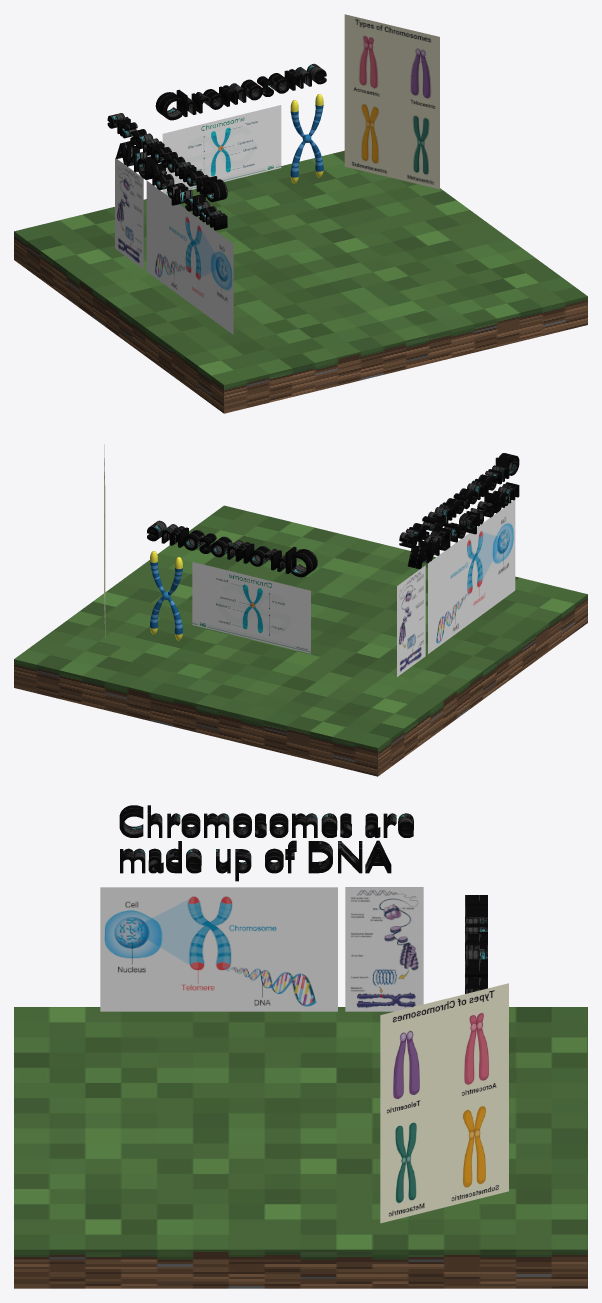
Rendered from chromosome.glb.
The picture shows the model from 3 angles, top to bottom: view 1: azimuth 30°, elevation 25°; view 2: azimuth 150°, elevation 25°; view 3: azimuth 270°, elevation 25°; orthographic projection. The views are drawn at different scales.
Visible parts, largest first — view 1: Object_2, types_of_chromosomes, chromosome_are_made_up_of_dna, chromosome_inner_info_1, Text.001, Text, chromosome_are_made_up_of_dna_2, CromossomaX; view 2: Object_2, chromosome_are_made_up_of_dna, chromosome_inner_info_1, Text.001, Text, chromosome_are_made_up_of_dna_2, CromossomaX; view 3: Object_2, chromosome_are_made_up_of_dna, types_of_chromosomes, chromosome_are_made_up_of_dna_2, Text.001, Text.
Part boxes in pixels (x1,y1,x2,y2): Object_2: [14, 150, 587, 413]; types_of_chromosomes: [344, 14, 439, 189]; chromosome_are_made_up_of_dna: [146, 180, 233, 334]; chromosome_inner_info_1: [162, 105, 281, 195]; Text.001: [107, 113, 227, 230]; Text: [155, 63, 326, 120]; chromosome_are_made_up_of_dna_2: [115, 157, 143, 268]; CromossomaX: [290, 94, 323, 183]; Object_2: [14, 505, 587, 776]; chromosome_are_made_up_of_dna: [428, 500, 515, 653]; chromosome_inner_info_1: [192, 562, 310, 653]; Text.001: [399, 453, 519, 569]; Text: [147, 520, 317, 577]; chromosome_are_made_up_of_dna_2: [397, 565, 425, 676]; CromossomaX: [150, 551, 182, 640]; Object_2: [14, 1007, 587, 1288]; chromosome_are_made_up_of_dna: [100, 887, 337, 1011]; types_of_chromosomes: [380, 983, 508, 1223]; chromosome_are_made_up_of_dna_2: [345, 887, 423, 1011]; Text.001: [119, 805, 413, 881]; Text: [465, 895, 487, 993].
Size of the model in its own units: 6.03 by 3.06 by 6.03.
Materials: 7 (7 with a texture image).
